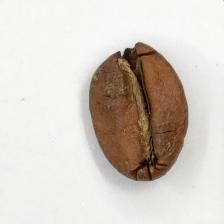NG: (100, 69, 126, 102)
